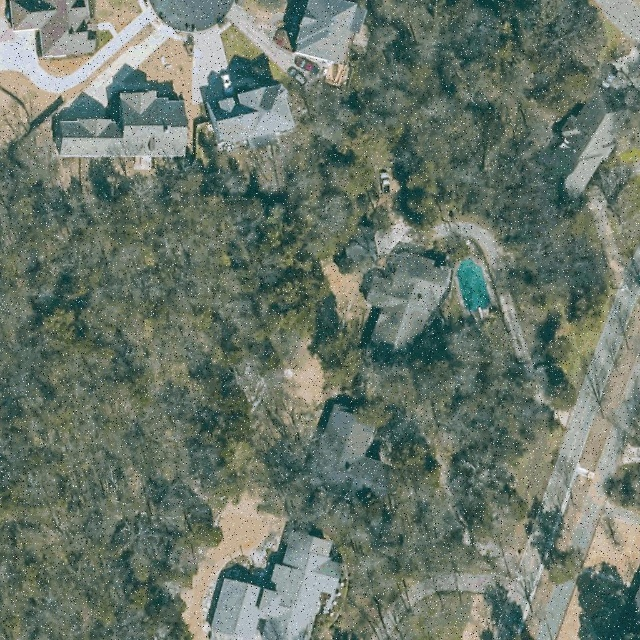vegetation: (1, 110, 504, 640), (312, 0, 610, 541)
